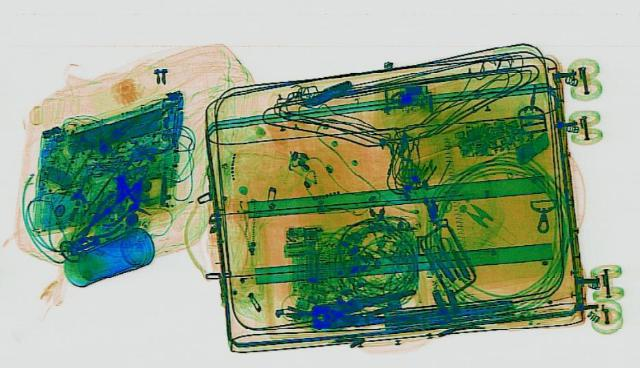Pliers: (302, 285, 438, 328)
